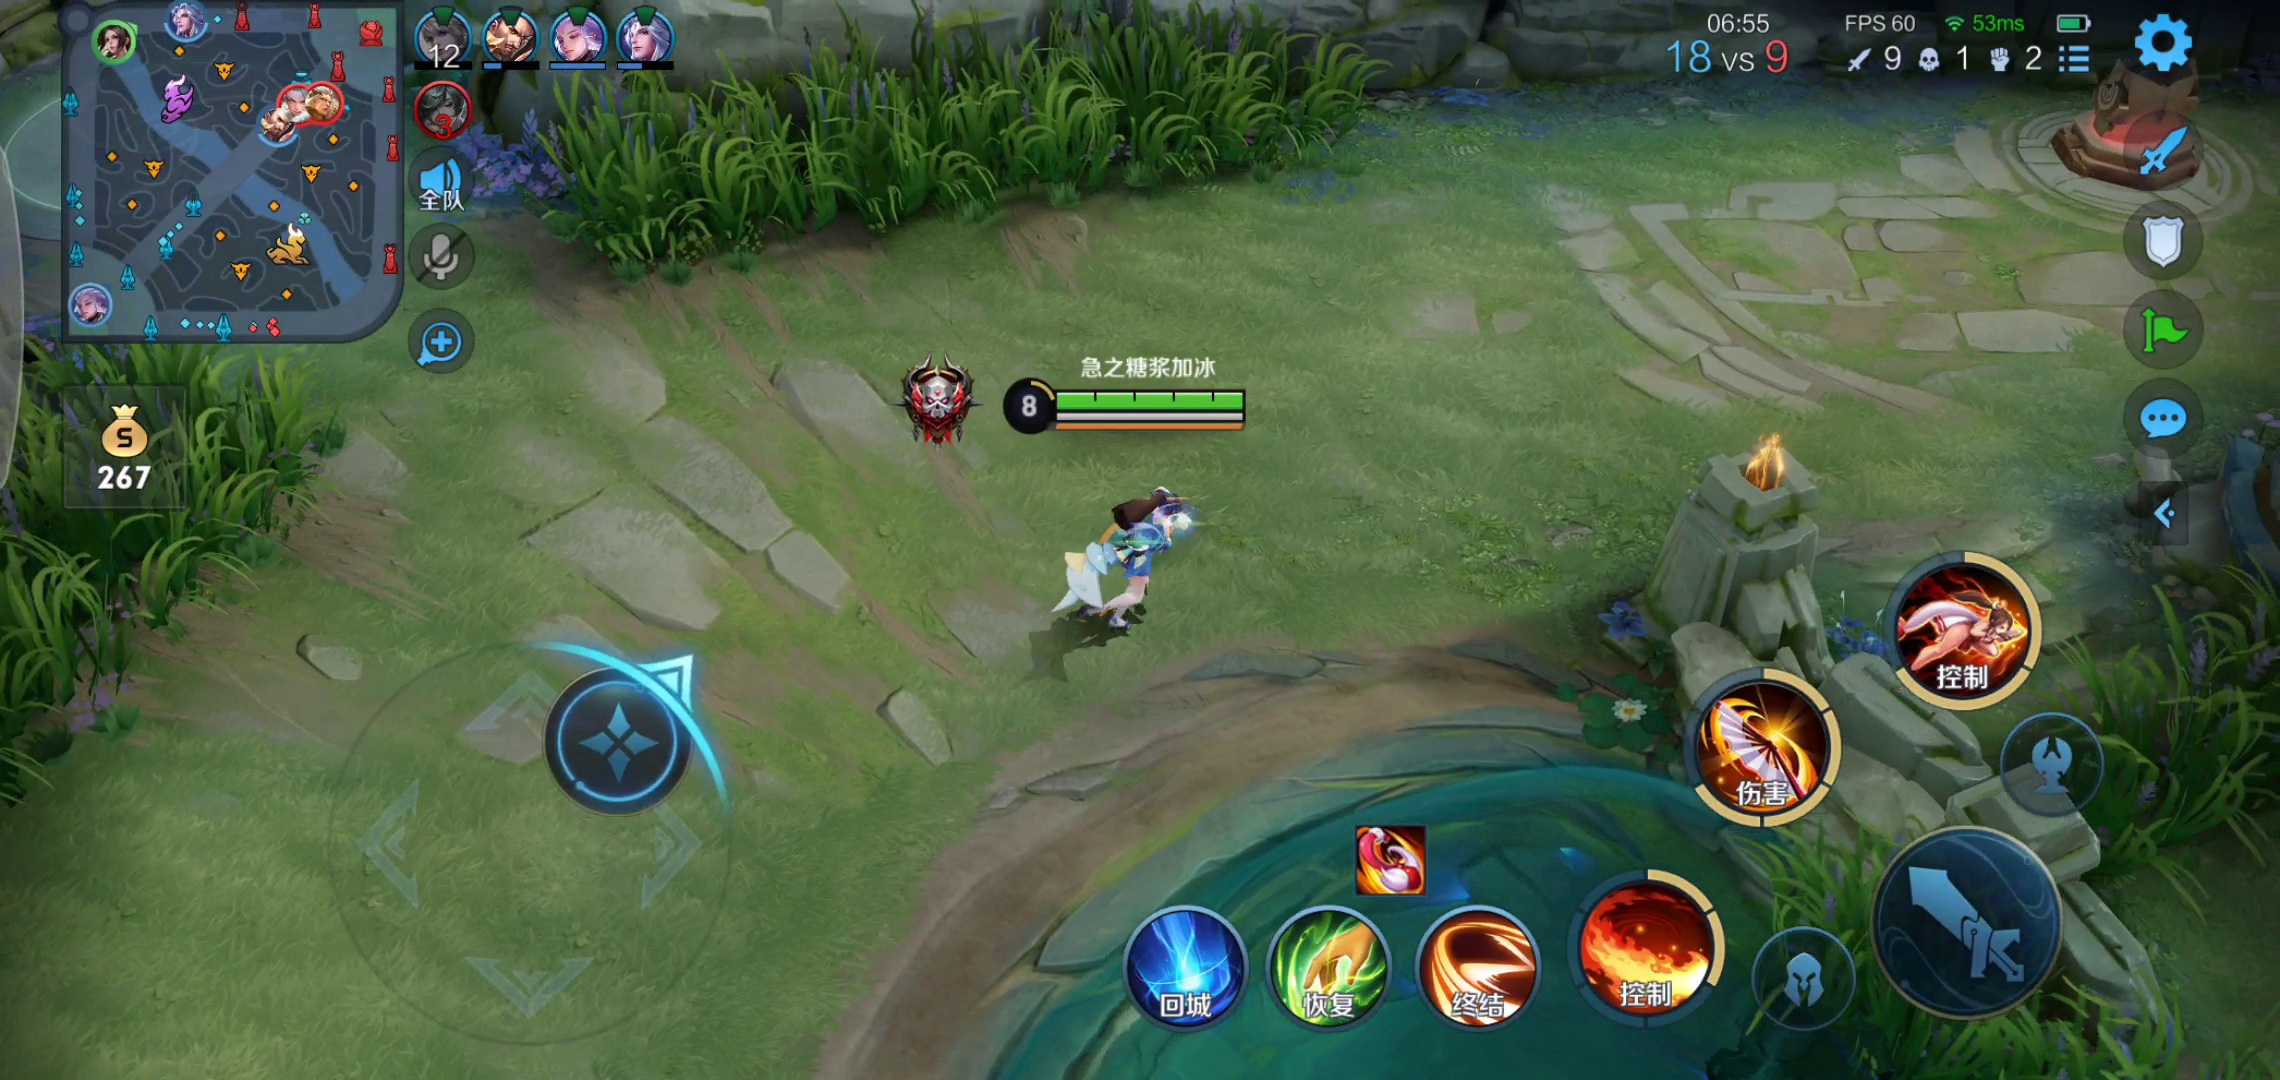grass: (557, 22, 1400, 249), (4, 359, 353, 759), (1711, 839, 2120, 1077), (2082, 597, 2255, 847)
hero: (1045, 472, 1219, 642)
tower: (2044, 45, 2236, 196)
